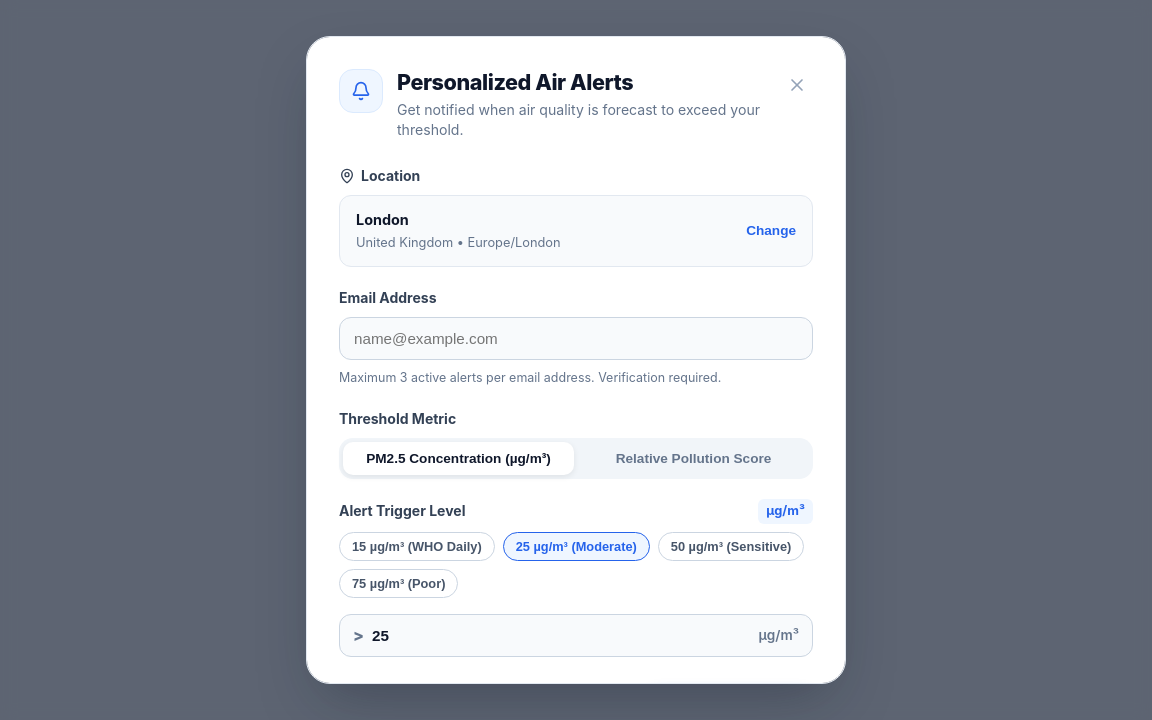
Scenario: AirAlertsModal Component › submits alert creation and displays success confirmation
Type "alice@example.com" into the field with placeholder "name@example.com".
click(576, 339); type("alice@example.com")  # box 339,317 -> 813,360
(page scrolled)
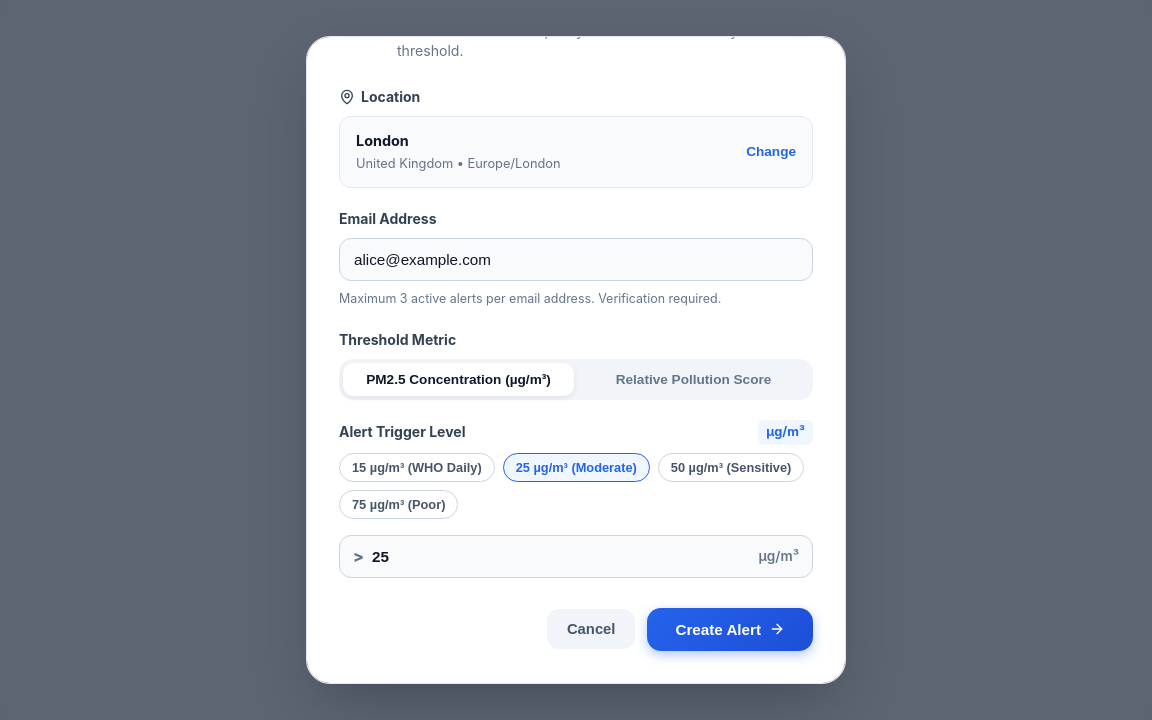
Click the button "Create Alert".
click(730, 629)  # box 648,608 -> 813,651
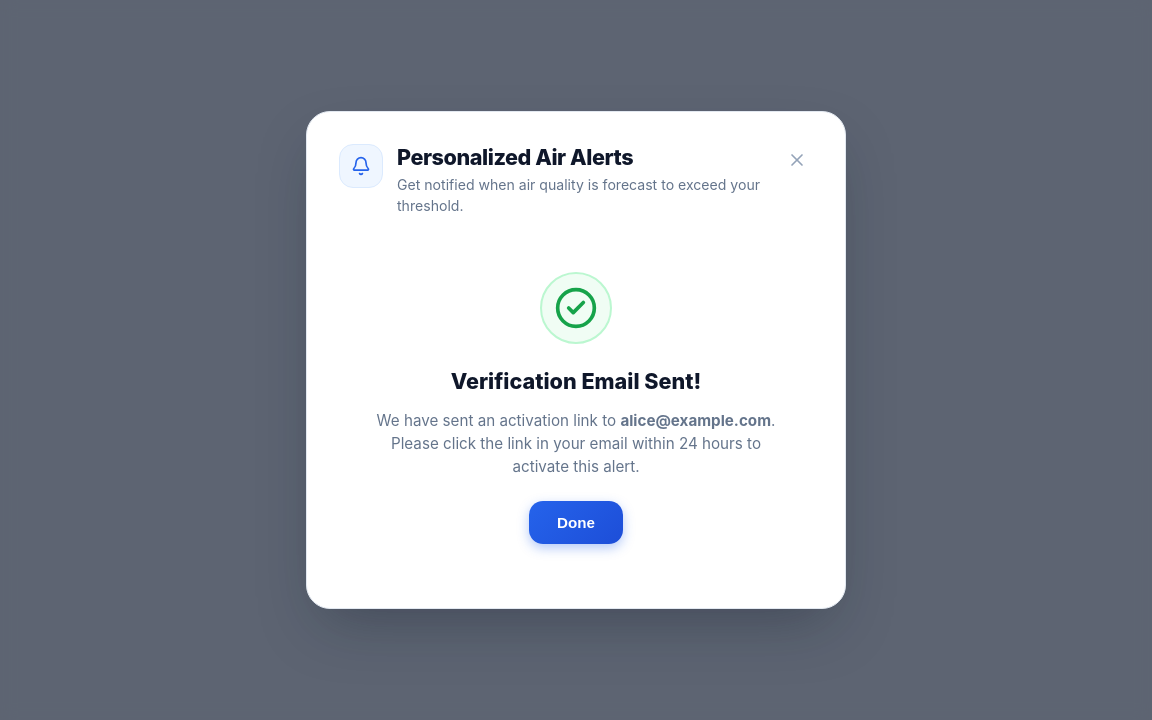
Check: the heading "Verification Email Sent!" is shown, box 451,364 -> 701,398
Check: the text "alice@example.com" is shown, box 620,412 -> 771,430
